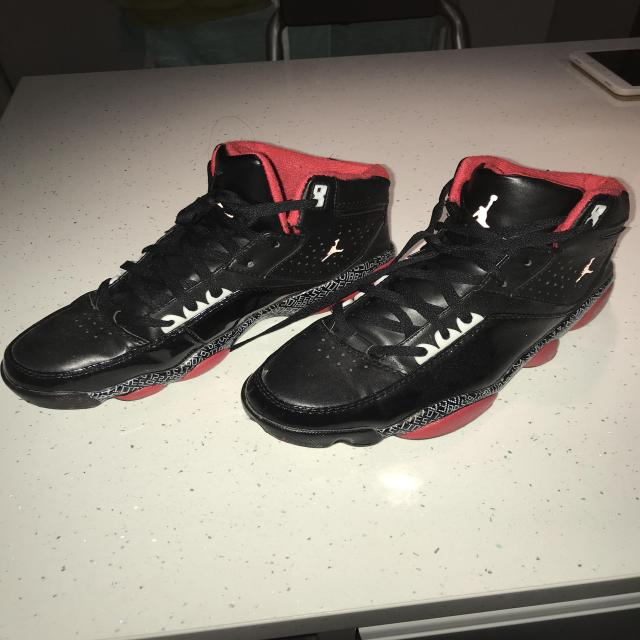shoe: (236, 163, 633, 447), (1, 137, 388, 412)
